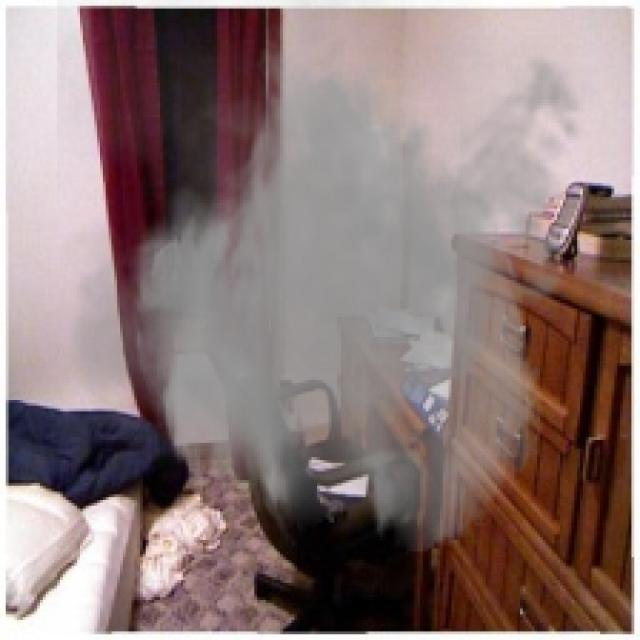Smoke: (57, 0, 600, 557)
